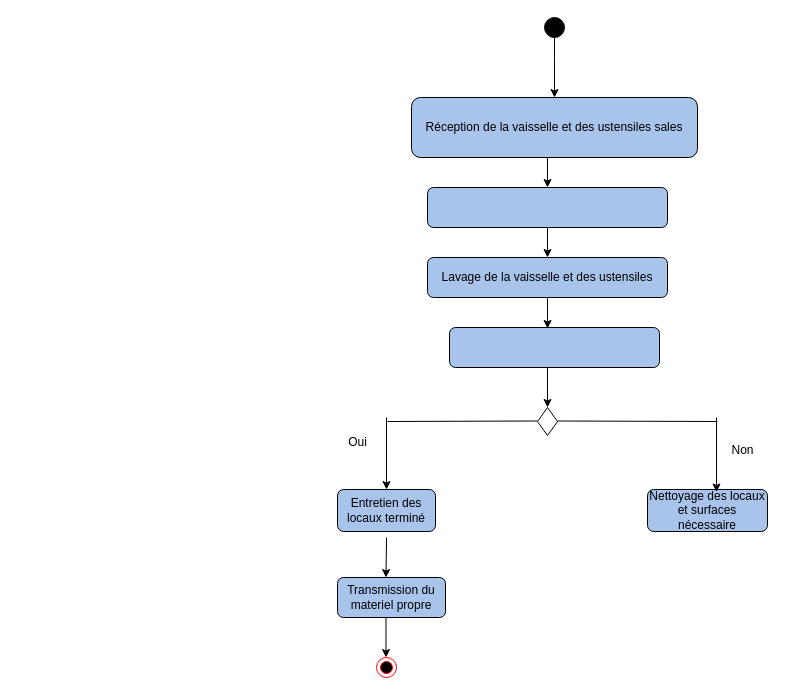
Image size: 785x695. Some labels were removed from this diagram. The centre of each missing label's shape, as x and y in pixels:
Les locaux sont-ils propres ?: the point at 554,347
Tri et organisation du matériel à laver: the point at 547,207
